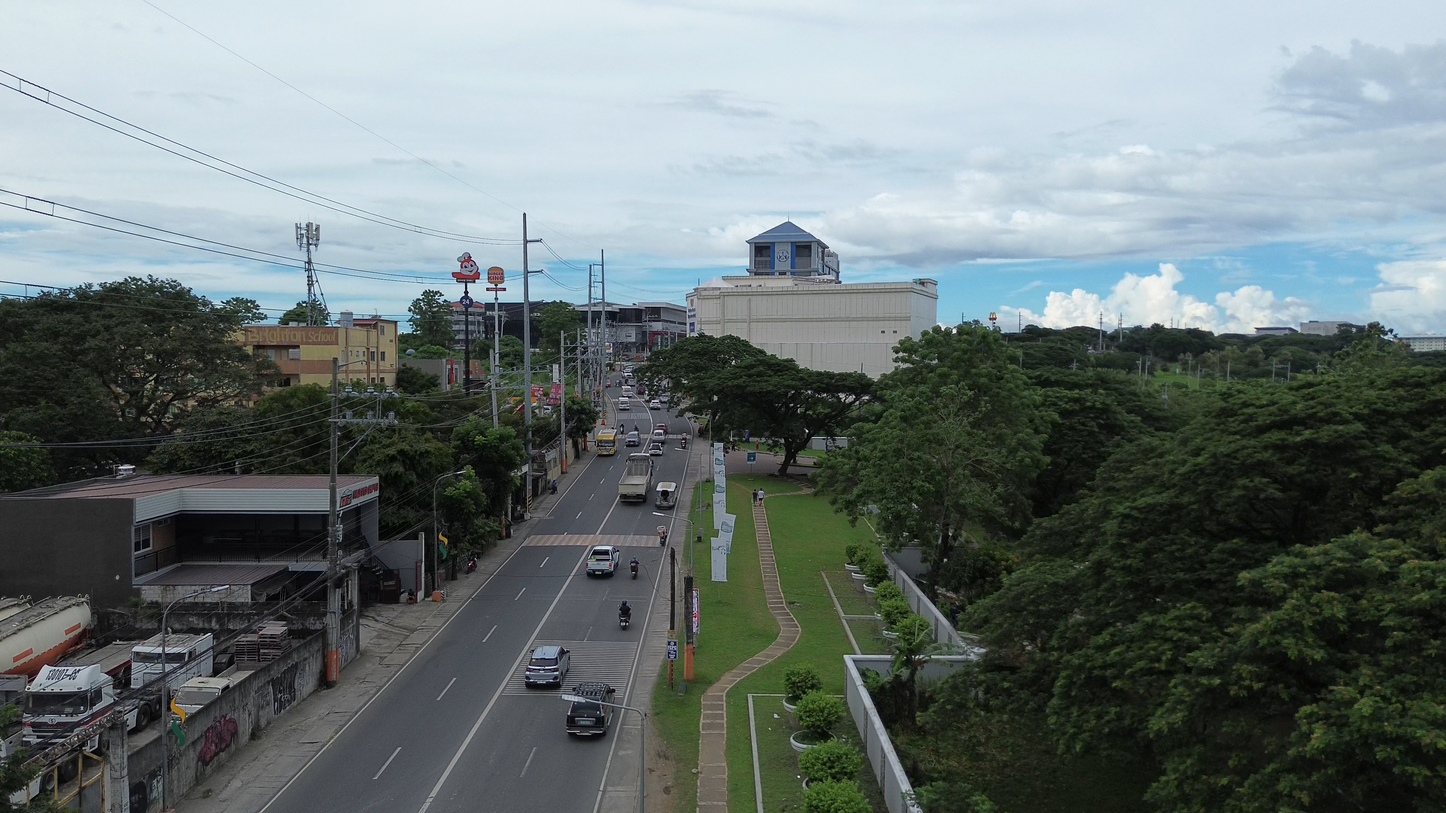bus: (596, 429, 616, 455)
car: (524, 645, 570, 687), (648, 440, 664, 456), (625, 431, 640, 446), (617, 397, 631, 411), (653, 423, 667, 435)
motorcycle: (619, 614, 630, 629), (630, 562, 638, 579)
truck: (22, 641, 161, 744)
vehicle: (23, 642, 143, 744), (0, 596, 91, 678), (132, 633, 212, 690), (566, 682, 615, 735), (172, 678, 232, 715), (618, 453, 654, 501), (585, 545, 622, 576), (655, 482, 677, 509), (648, 440, 664, 456), (625, 430, 640, 447), (617, 397, 631, 411), (653, 423, 667, 436), (621, 385, 634, 397), (649, 399, 662, 410)
